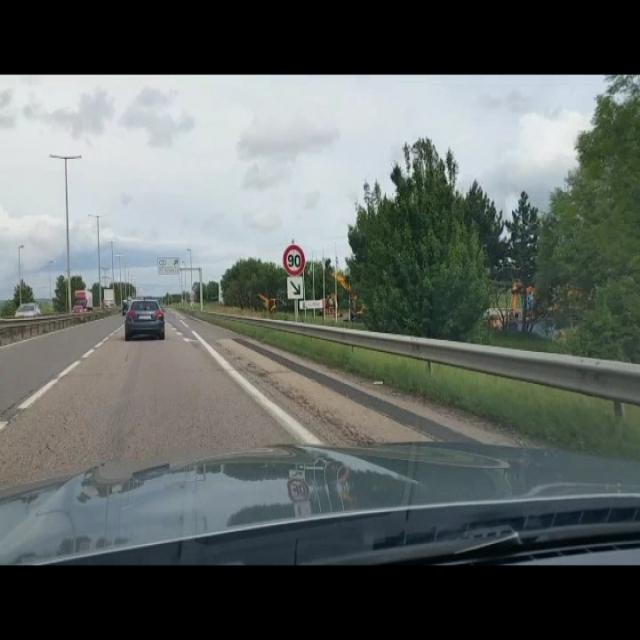direction: (156, 254, 182, 277)
side_right: (287, 276, 304, 300)
speed_90: (282, 243, 306, 275)
